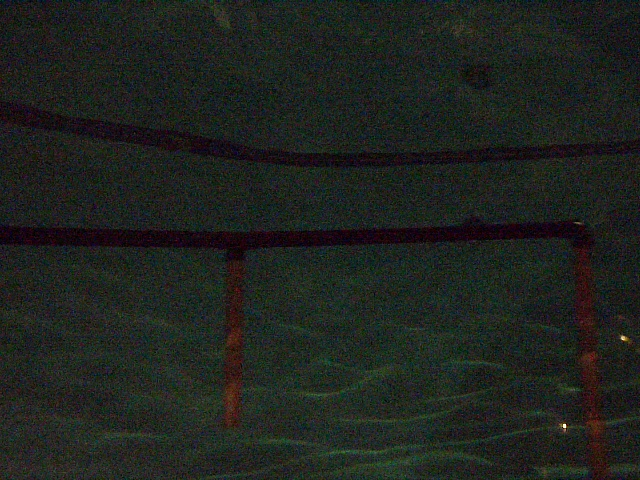Gate: (572, 242, 610, 480), (219, 248, 250, 433)
